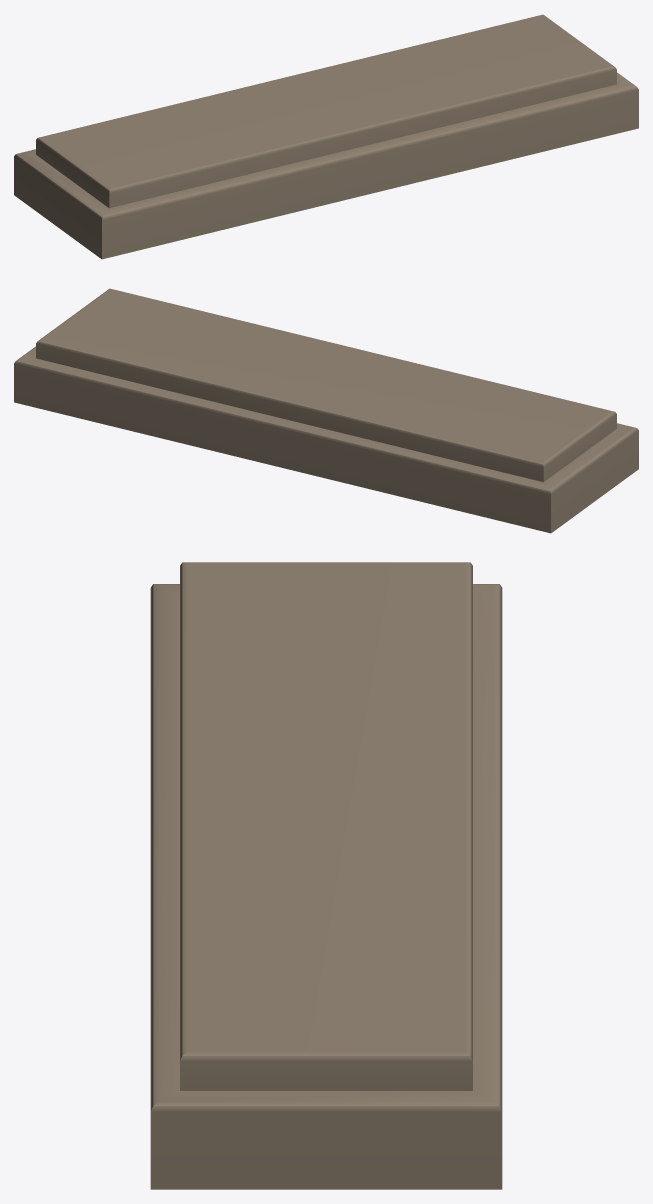
File: Podium.fbx
3 views of the same model, one above another, from view 1: azimuth 30°, elevation 25°; view 2: azimuth 150°, elevation 25°; view 3: azimuth 270°, elevation 25° (orthographic). The views are drawn at different scales.
Parts seen in each view (by area): view 1: Podium; view 2: Podium; view 3: Podium.
Part boxes in pixels (x1,y1,x2,y2): Podium: (14,14,638,259); Podium: (14,288,638,533); Podium: (150,562,502,1189).
Size of the model in its own units: 5.48 by 0.5858 by 1.55.
Materials: 1 (1 with a texture image).
